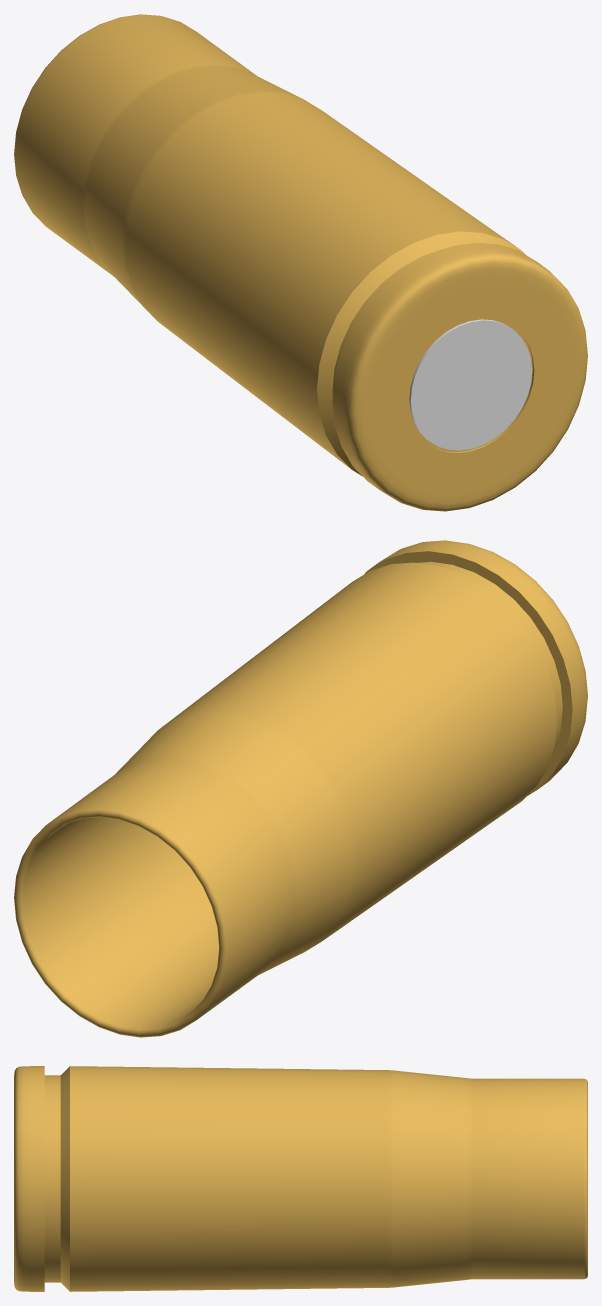
Rendered from casing.fbx.
The picture shows the model from 3 angles, top to bottom: view 1: azimuth 30°, elevation 25°; view 2: azimuth 150°, elevation 25°; view 3: azimuth 270°, elevation 25°; orthographic projection. The views are drawn at different scales.
Visible parts, largest first — view 1: Casing; view 2: Casing; view 3: Casing.
Boxes of the visible parts, x1,y1,x2,y2 form: Casing: (14,14,587,511); Casing: (14,540,587,1037); Casing: (14,1066,587,1291).
Size of the model in its own units: 39.36 by 39.36 by 100.
